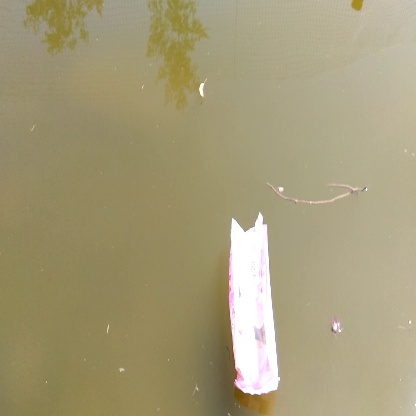branch: (263, 172, 373, 212)
plastic-bag: (221, 216, 296, 394)
